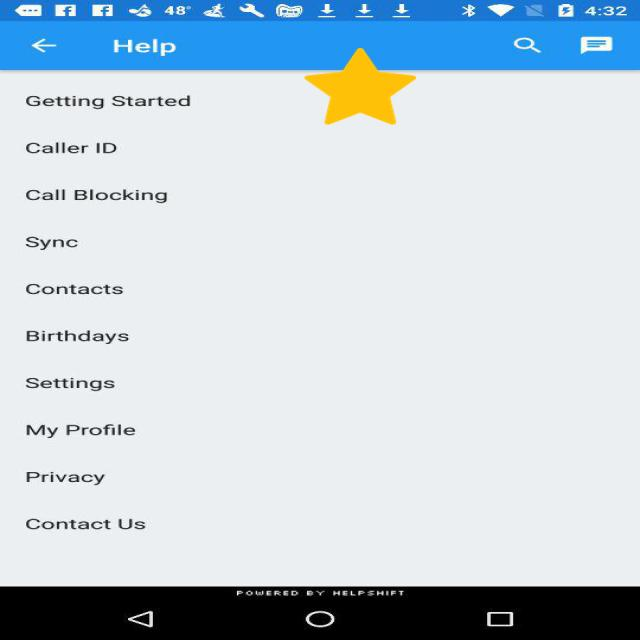forced continuity: (305, 48, 416, 125)
